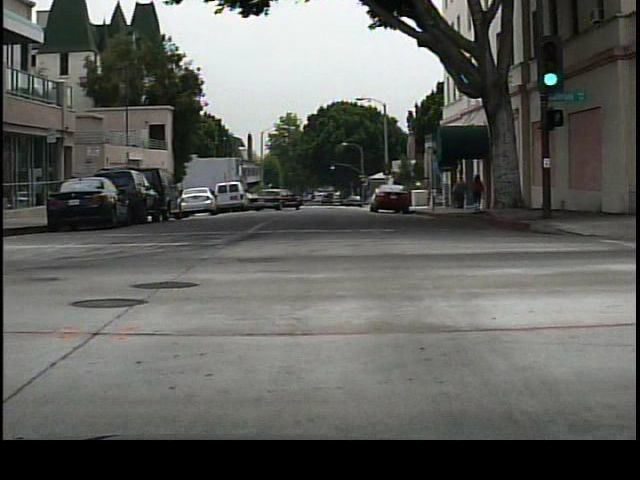person: (470, 169, 489, 214), (449, 176, 471, 212)
